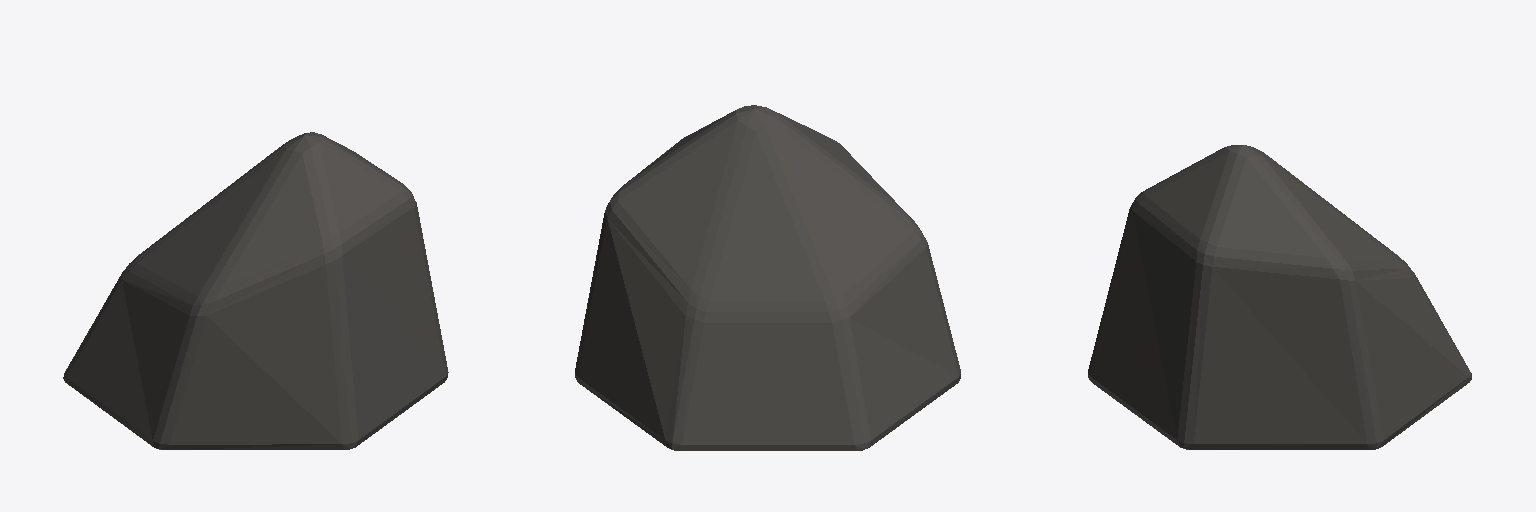
The model's file is boulder-2.obj.
The picture shows the model from 3 angles: view 1: azimuth 30°, elevation 25°; view 2: azimuth 150°, elevation 25°; view 3: azimuth 270°, elevation 25°; orthographic projection.
Visible parts, largest first — view 1: Boulder_Cylinder.001; view 2: Boulder_Cylinder.001; view 3: Boulder_Cylinder.001.
Part boxes in pixels (x1,y1,x2,y2): Boulder_Cylinder.001: (63, 132, 448, 449); Boulder_Cylinder.001: (575, 105, 960, 450); Boulder_Cylinder.001: (1088, 145, 1471, 449).
Bounding box in the file's own units: 0.8552 × 0.7025 × 0.9685.